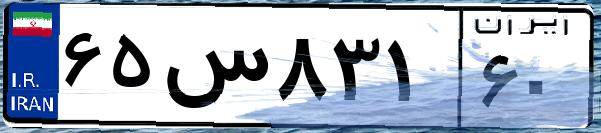0: (525, 38, 570, 115)
1: (385, 28, 445, 110)
3: (330, 28, 385, 110)
5: (110, 28, 158, 98)
6: (57, 26, 110, 100), (475, 38, 525, 113)
8: (270, 28, 330, 110)
س: (158, 20, 270, 120)
